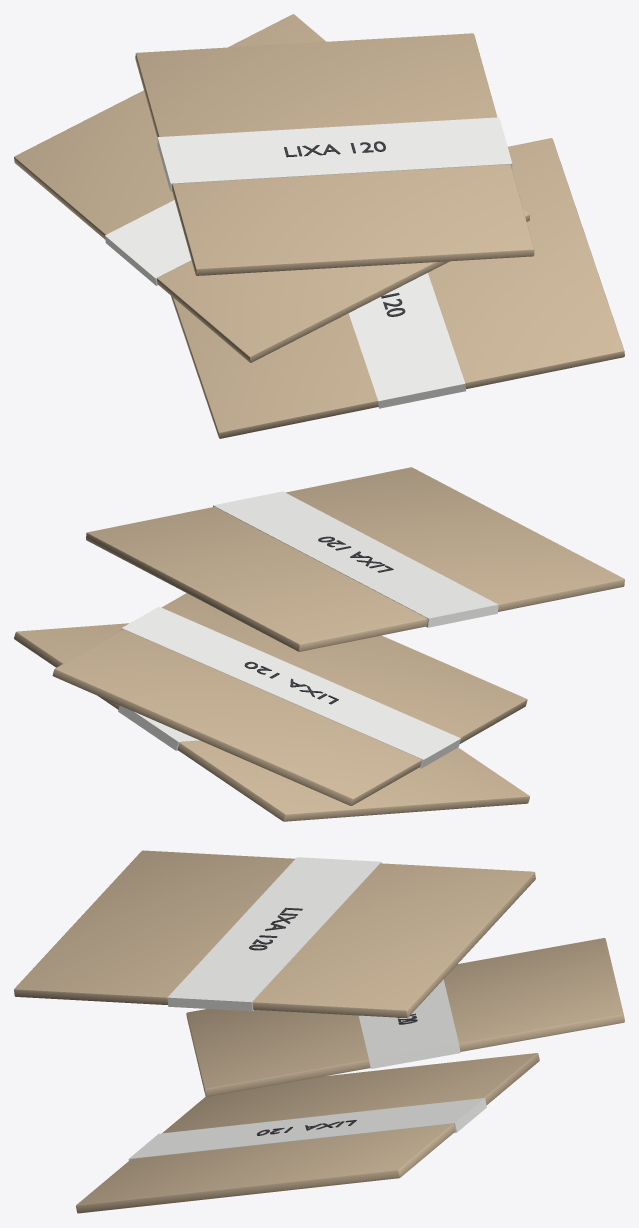
Rendered from PIN-FER-006_anim.glb.
3 renders of one model, top to bottom at view 1: azimuth 30°, elevation 25°; view 2: azimuth 150°, elevation 25°; view 3: azimuth 270°, elevation 25°, orthographic. The views are drawn at different scales.
Parts seen in each view (by area): view 1: PIN-FER-006_anim2, PIN-FER-006_anim0, PIN-FER-006_anim1; view 2: PIN-FER-006_anim2, PIN-FER-006_anim1, PIN-FER-006_anim0; view 3: PIN-FER-006_anim2, PIN-FER-006_anim0, PIN-FER-006_anim1.
Part boxes in pixels (box(x1,y1,x2,y2)): PIN-FER-006_anim2: box(135, 33, 534, 275); PIN-FER-006_anim0: box(171, 138, 624, 438); PIN-FER-006_anim1: box(14, 14, 529, 362); PIN-FER-006_anim2: box(86, 467, 624, 651); PIN-FER-006_anim1: box(52, 593, 527, 805); PIN-FER-006_anim0: box(14, 623, 529, 821); PIN-FER-006_anim2: box(14, 850, 535, 1017); PIN-FER-006_anim0: box(76, 1053, 539, 1213); PIN-FER-006_anim1: box(186, 938, 624, 1097).
Bounding box in the file's own units: 0.3741 × 0.189 × 0.4014.
